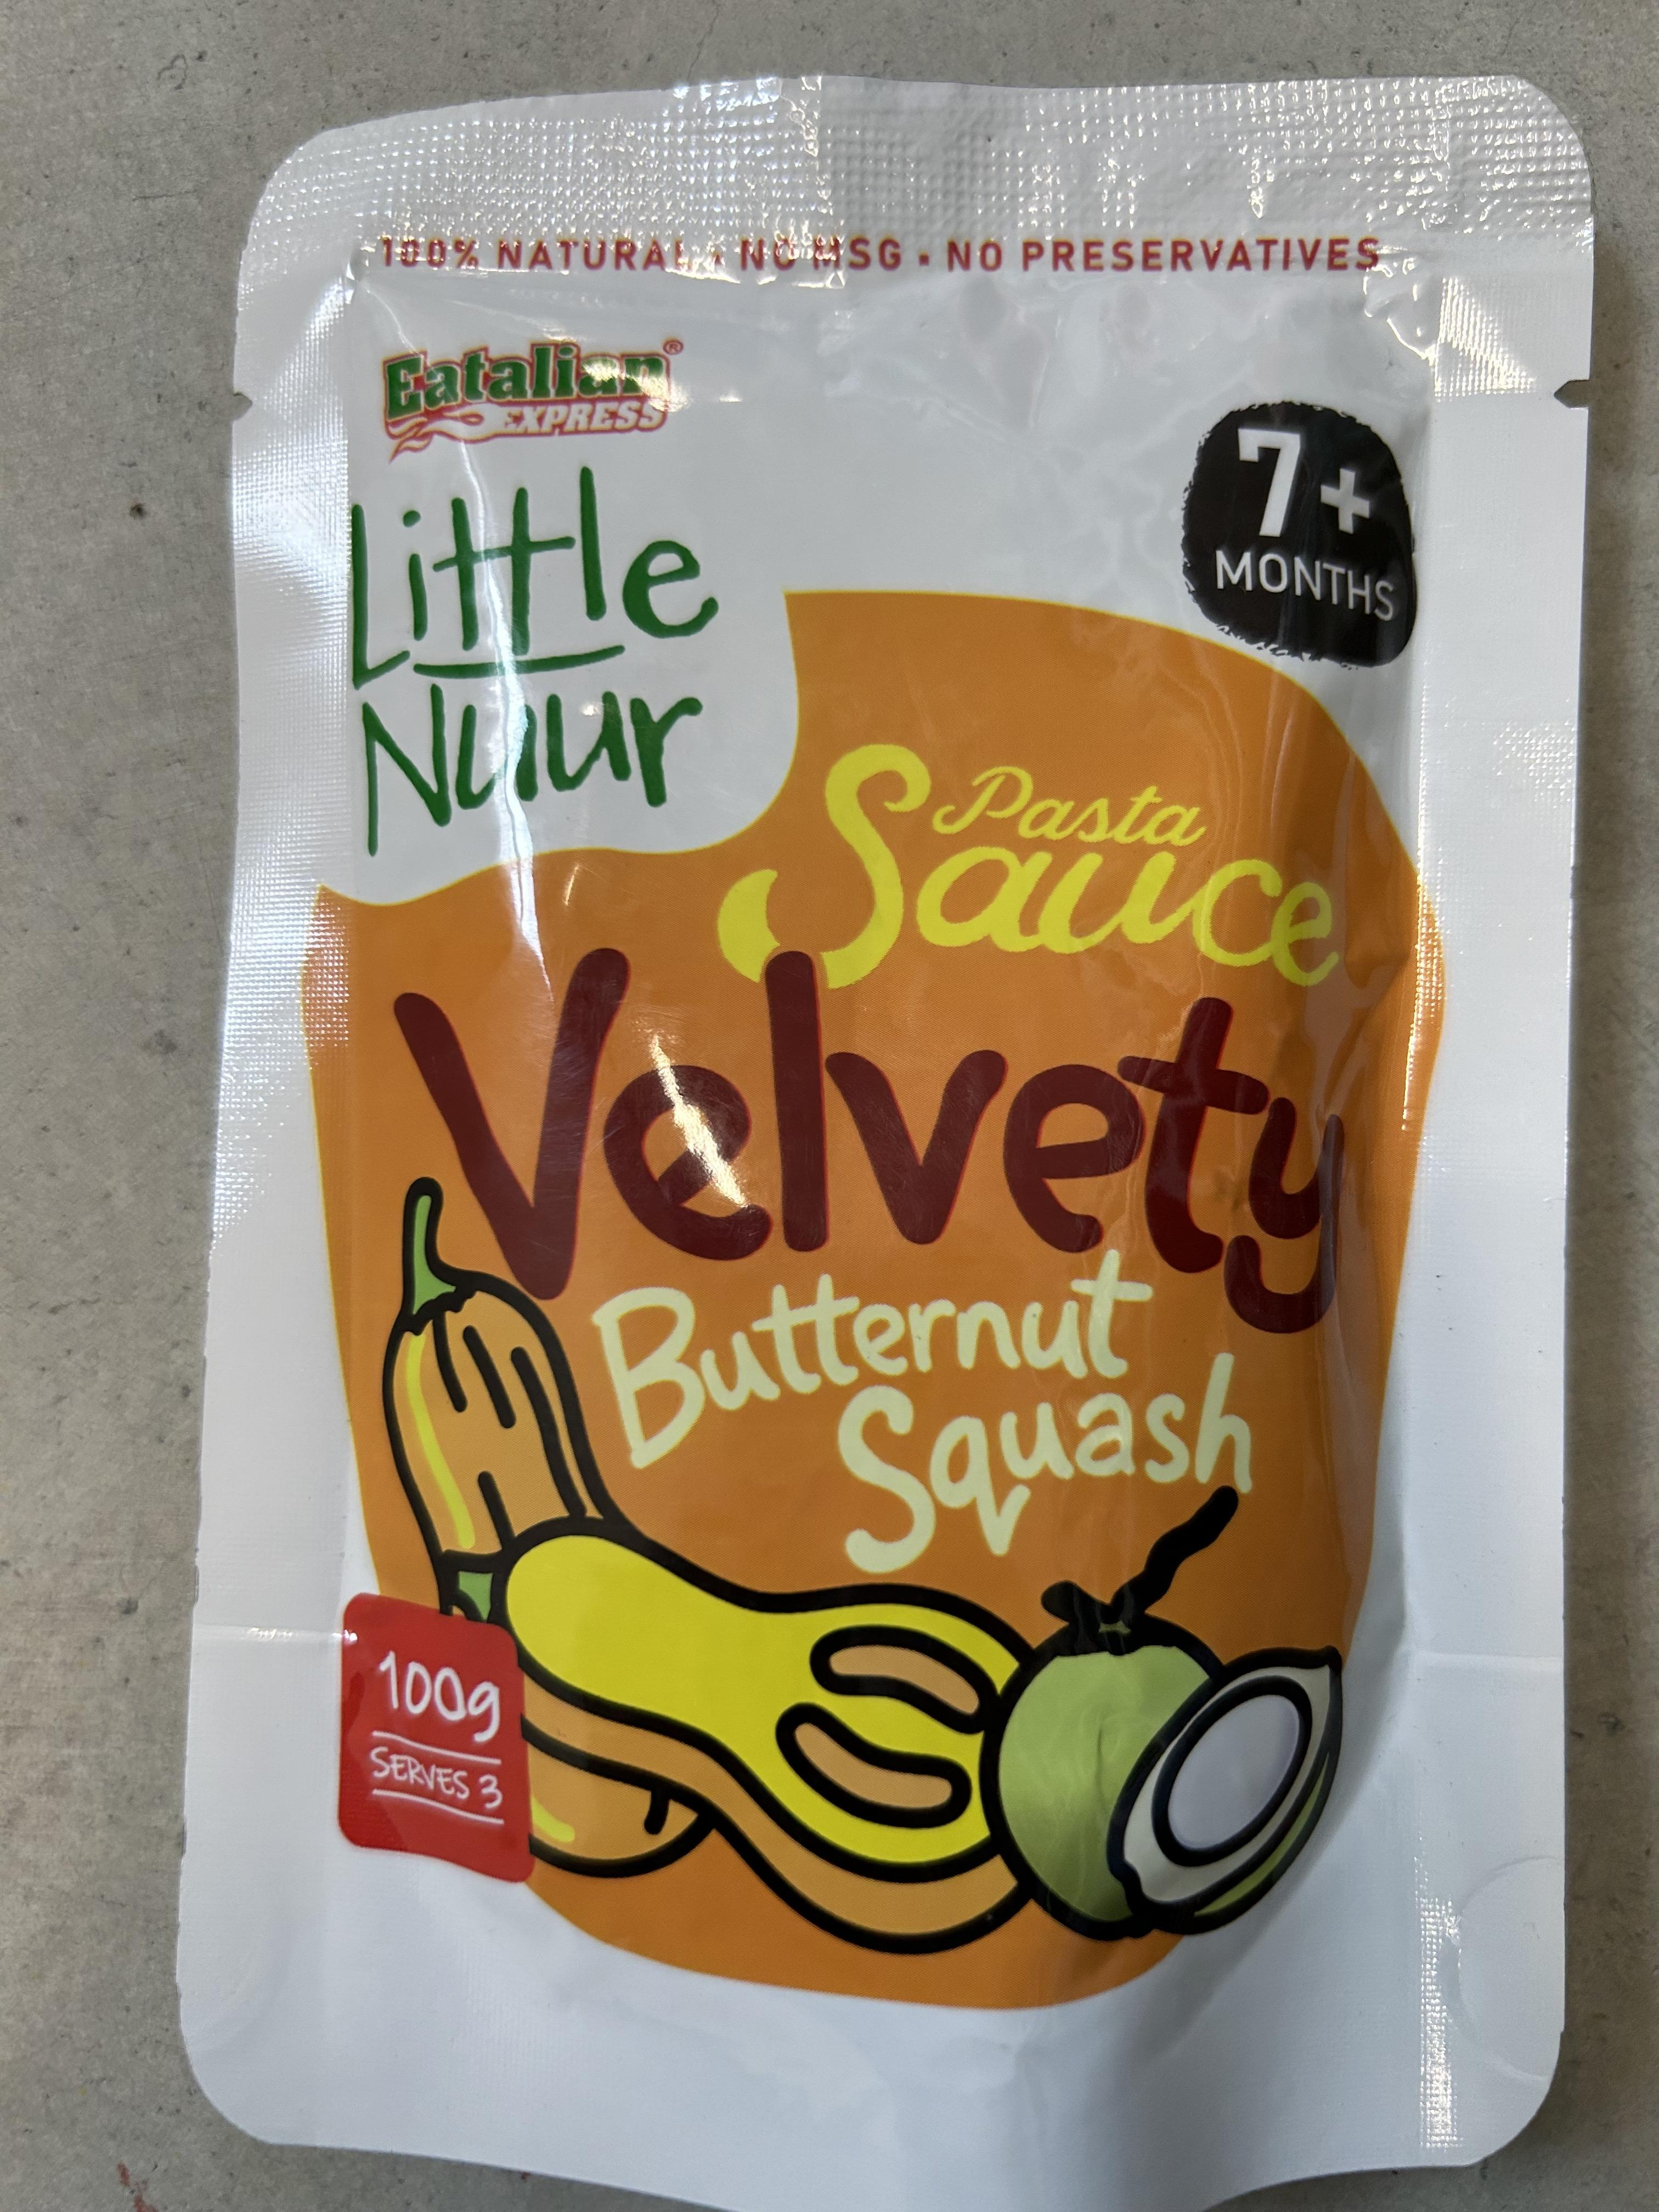object_name: (291, 162, 1509, 2121)
